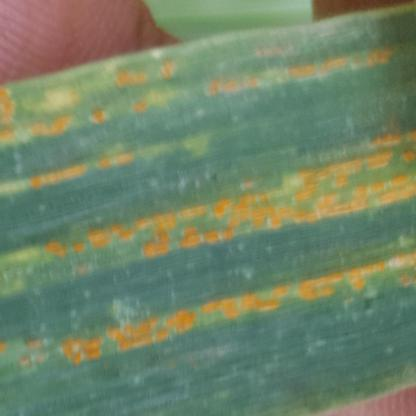Wheat-Yellow-rust: (0, 91, 301, 379), (315, 79, 395, 347), (122, 58, 379, 69), (404, 106, 412, 324)
